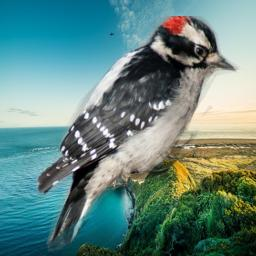Woodpecker: (36, 16, 244, 254)
